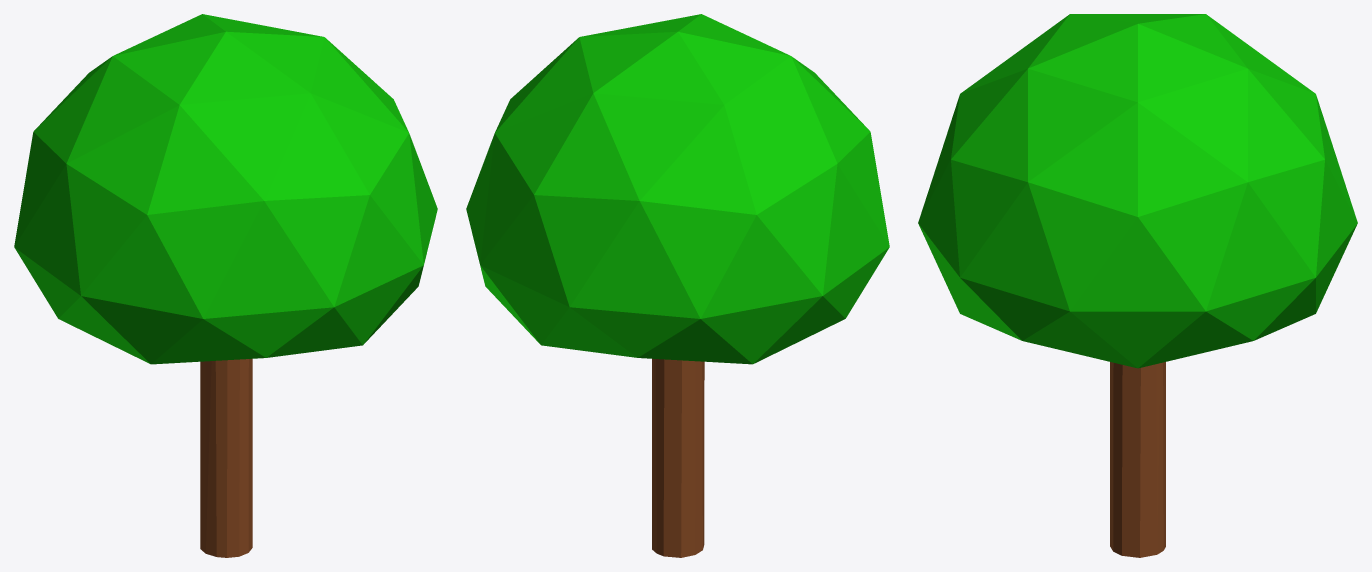
The model's file is loofboom_1.fbx.
The picture shows the model from 3 angles, left to right: view 1: azimuth 30°, elevation 25°; view 2: azimuth 150°, elevation 25°; view 3: azimuth 270°, elevation 25°; orthographic projection.
Visible parts, largest first — view 1: Icosphere, Cylinder; view 2: Icosphere, Cylinder; view 3: Icosphere, Cylinder.
Part boxes in pixels (bbox=[...]): Icosphere: bbox=[14, 14, 437, 364]; Cylinder: bbox=[200, 358, 252, 557]; Icosphere: bbox=[466, 14, 889, 364]; Cylinder: bbox=[652, 358, 704, 557]; Icosphere: bbox=[918, 14, 1357, 368]; Cylinder: bbox=[1110, 362, 1165, 557].
Size of the model in its own units: 1023 by 1411 by 1076.
